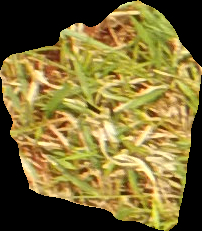grass: (1, 1, 201, 229)
